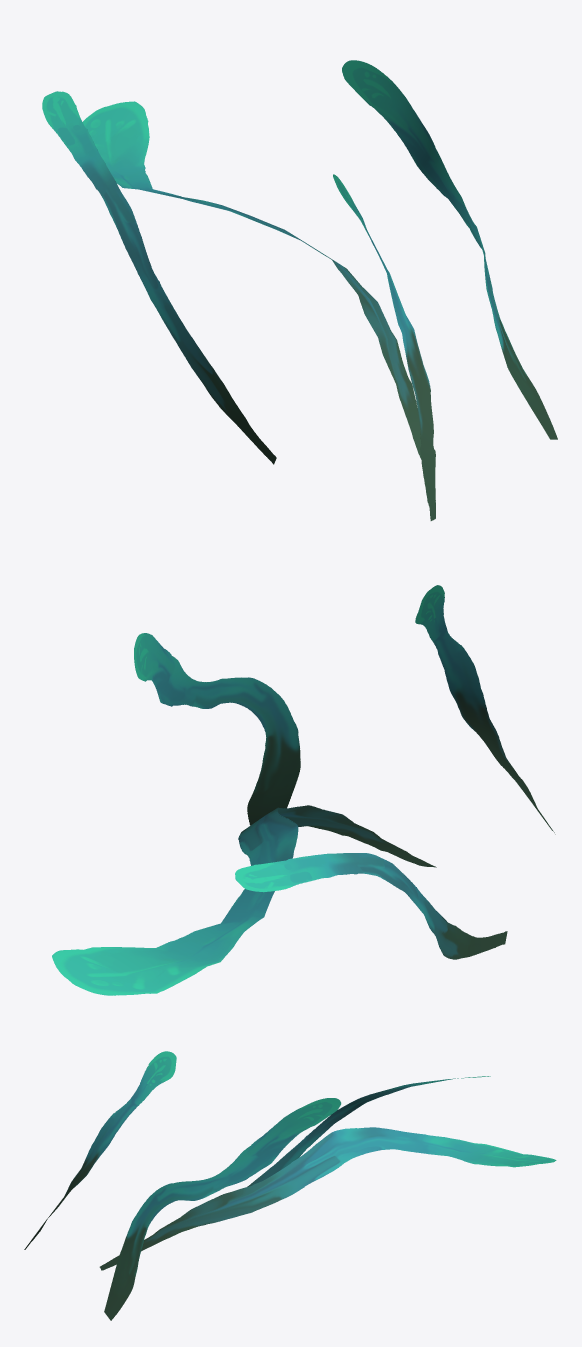
Rendered from Seaweed4.fbx.
3 views of the same model, one above another, from view 1: azimuth 30°, elevation 25°; view 2: azimuth 150°, elevation 25°; view 3: azimuth 270°, elevation 25° (orthographic). The views are drawn at different scales.
Visible parts, largest first — view 1: Plane.004; view 2: Plane.004; view 3: Plane.004.
Boxes of the visible parts, <box> form: Plane.004: <box>42,60,557,520</box>; Plane.004: <box>52,585,555,995</box>; Plane.004: <box>24,1051,556,1320</box>.
Bounding box in the file's own units: 97.61 × 107 × 207.
